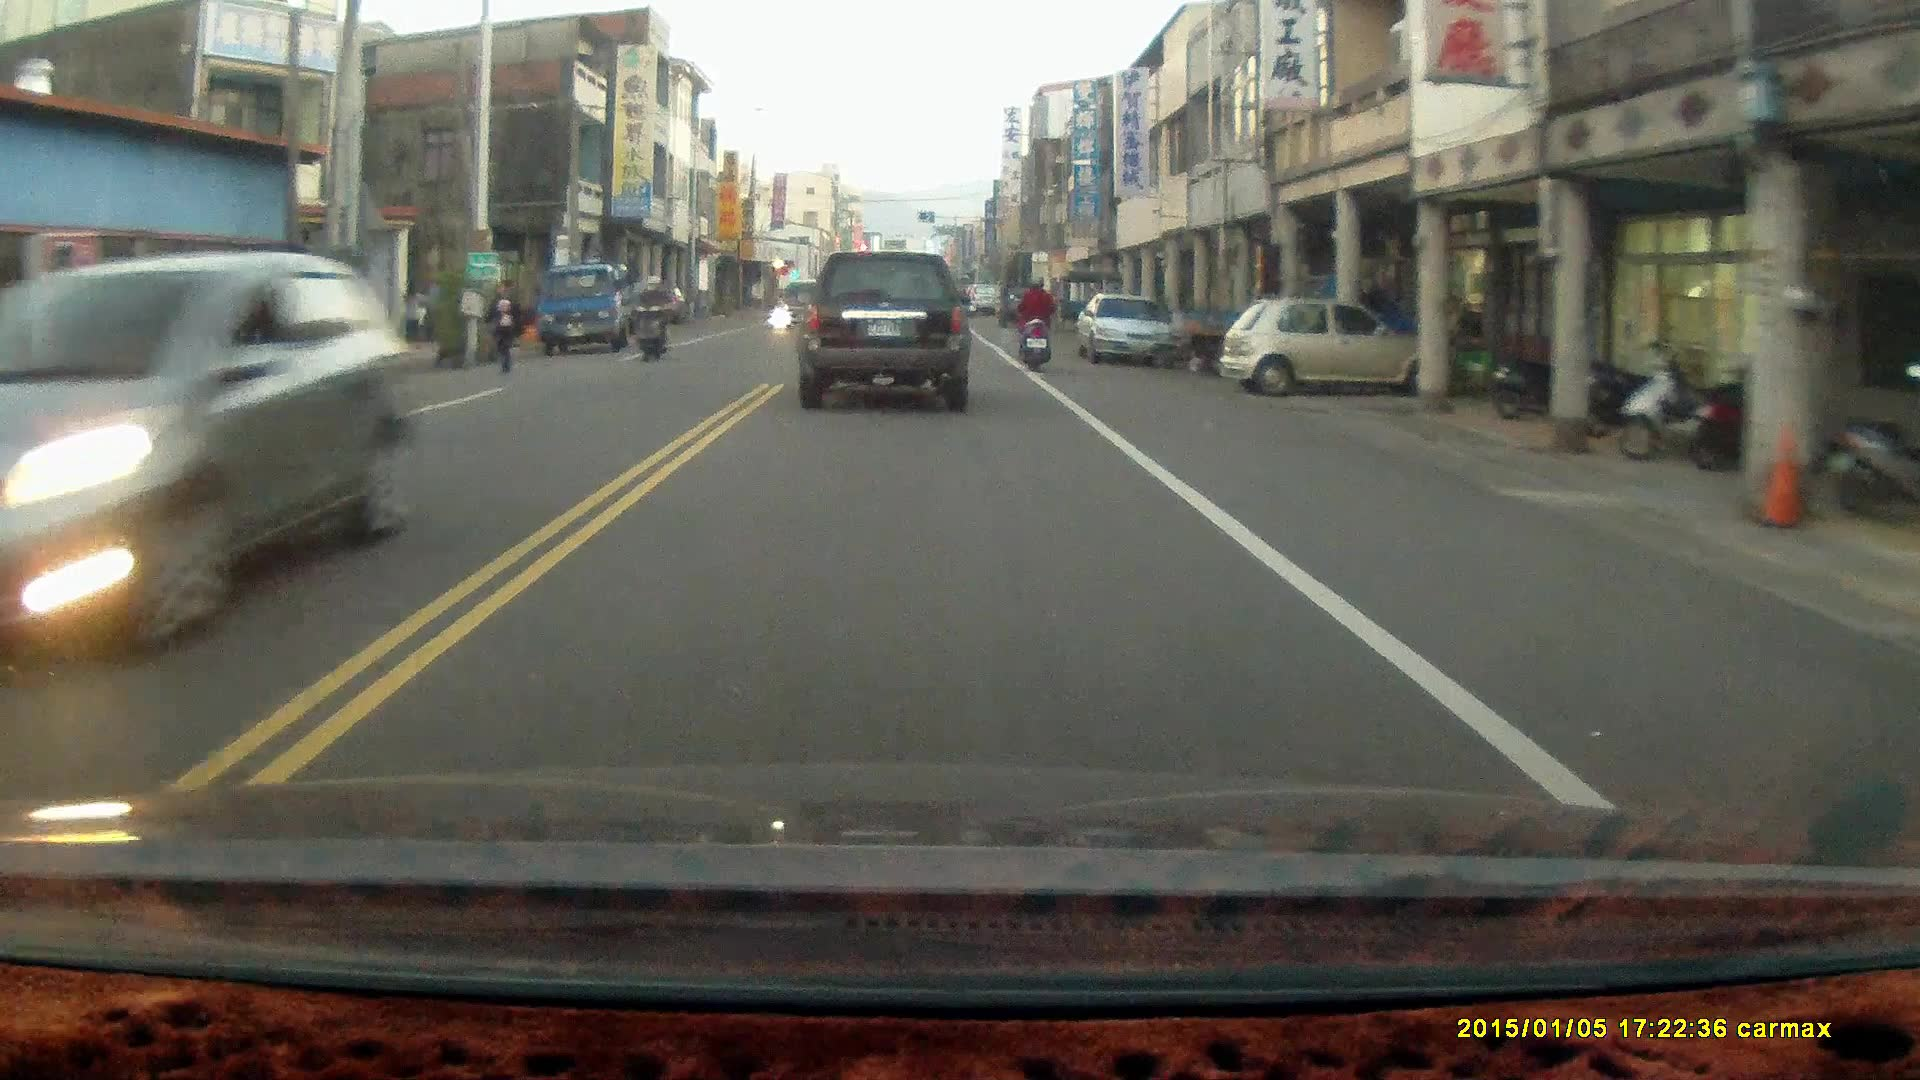pedestrian: (488, 279, 527, 378)
rider: (626, 276, 671, 364), (1014, 275, 1053, 373)
vehicle: (1, 253, 428, 658), (794, 250, 973, 419), (1224, 300, 1450, 399), (540, 263, 666, 357), (1077, 298, 1178, 372)
